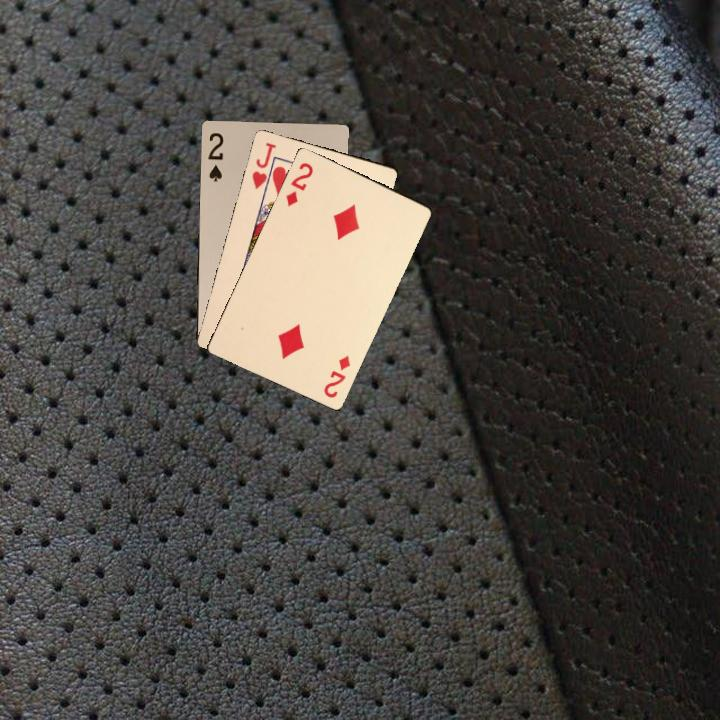2d: (281, 158, 316, 208), (320, 351, 353, 401)
2s: (204, 129, 226, 182)
Jh: (248, 138, 279, 195)
